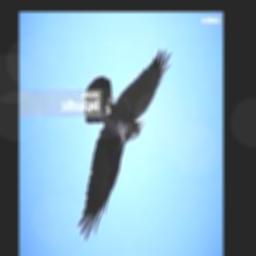Crow: (78, 48, 171, 243)
